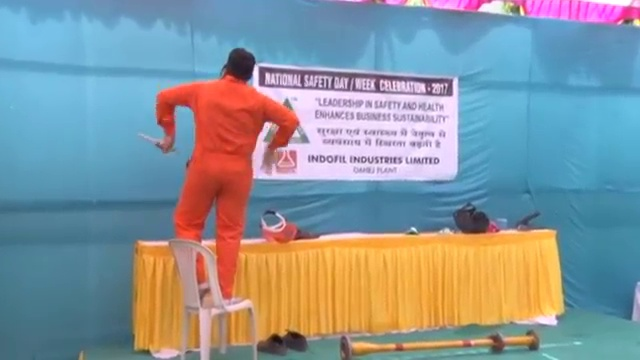helmet_off: (220, 48, 256, 81)
person: (151, 50, 301, 311)
